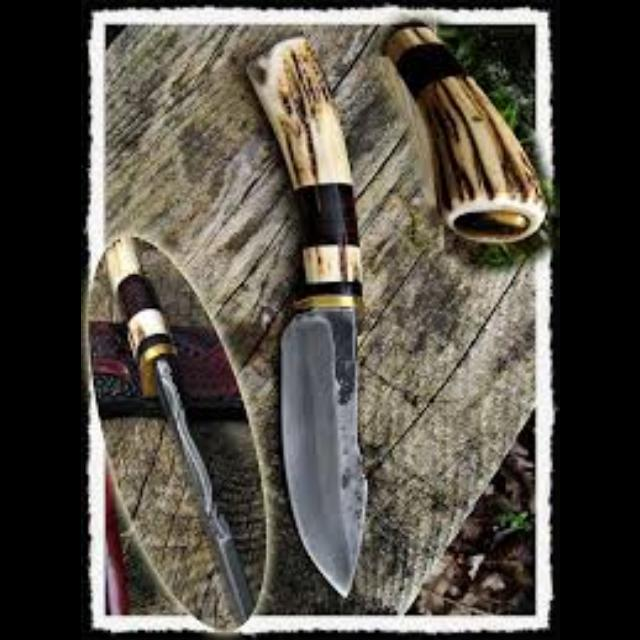Knife: (244, 35, 366, 598), (103, 235, 253, 627)
